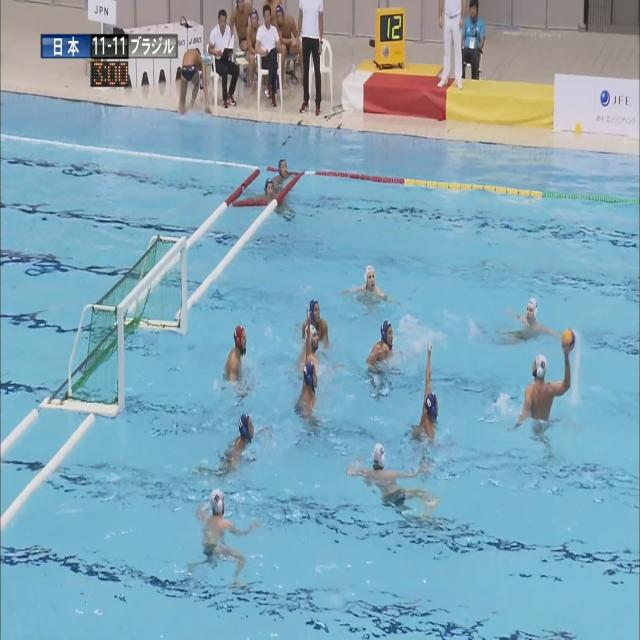ball: (561, 328, 575, 349)
